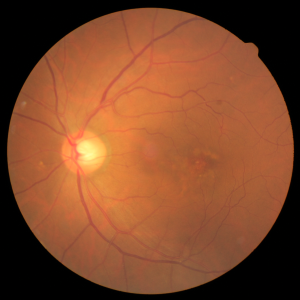retina_disease: (35, 100, 236, 209)
